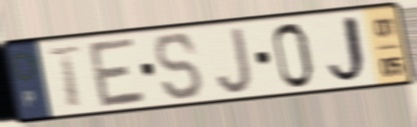0: (270, 20, 316, 90)
E: (85, 35, 150, 111)
J: (324, 13, 372, 87), (215, 25, 255, 97)
S: (153, 30, 206, 103)
T: (44, 44, 86, 111)
